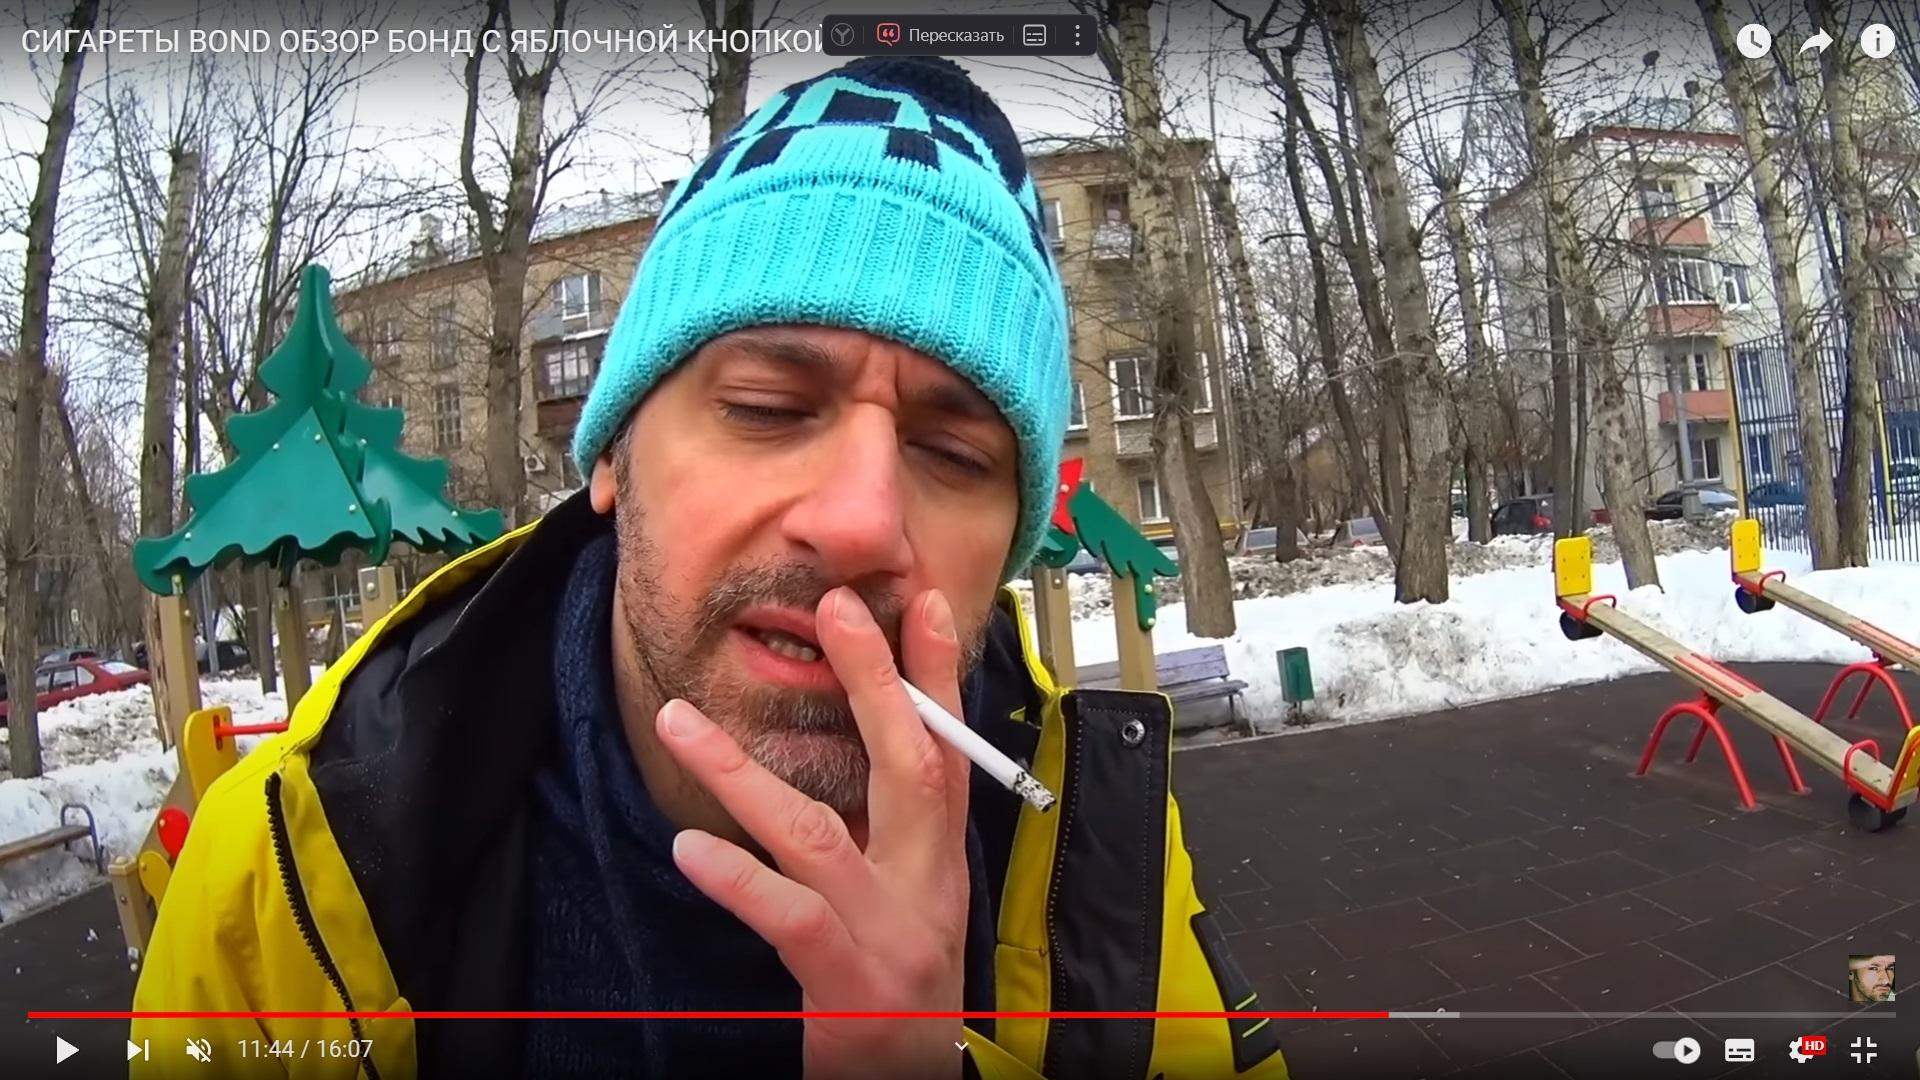cigarette: (902, 676, 1056, 812)
